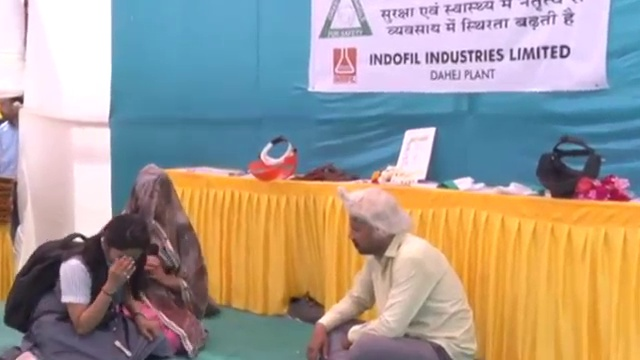helmet_off: (337, 190, 408, 261), (96, 211, 146, 277), (128, 166, 179, 226), (0, 90, 23, 124)
person: (305, 190, 481, 360), (0, 210, 145, 359), (115, 165, 212, 353), (0, 87, 27, 184)
